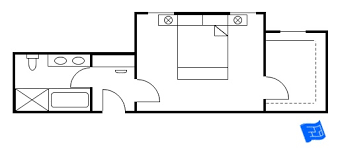door: (256, 71, 292, 102), (131, 76, 163, 106), (99, 86, 127, 120), (65, 66, 95, 88)
